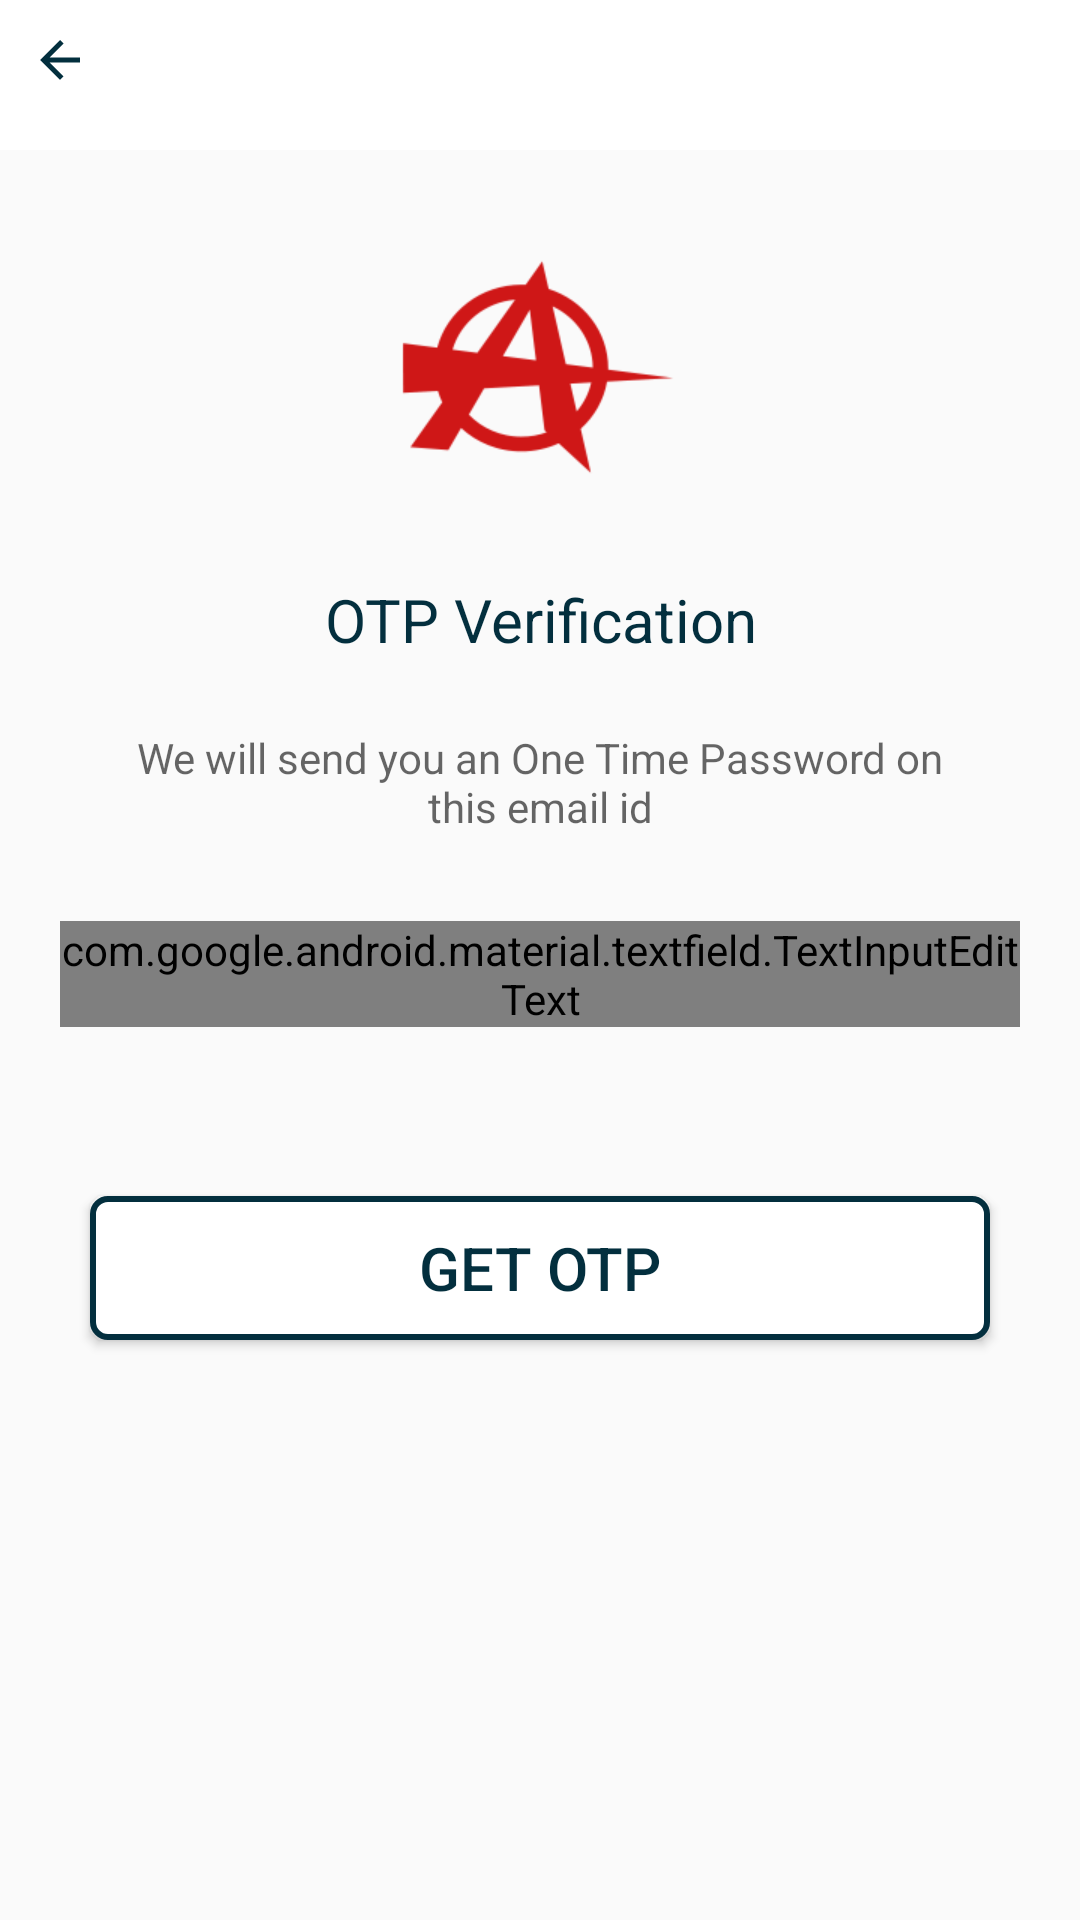

Screen size 1080*1920. Icon name, then its box in pixels as (x1, y1, x2, y2):
arrow back: (40, 40, 80, 80)
